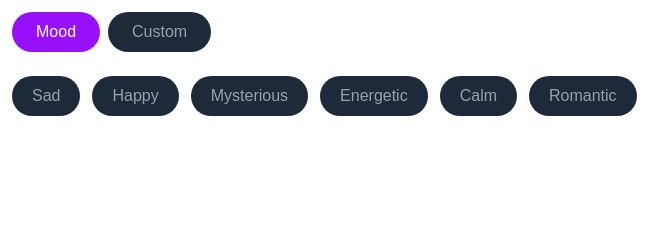
MoodSelector › shows key buttons when custom mode is selected
Click the button "Custom": (160, 32) [108, 12, 211, 52]
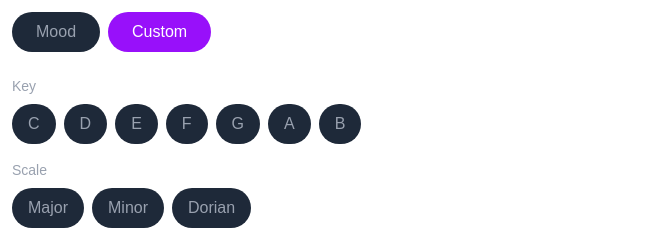
Check: the button "C" is shown, box [12, 104, 56, 144]
Check: the button "D" is shown, box [64, 104, 107, 144]
